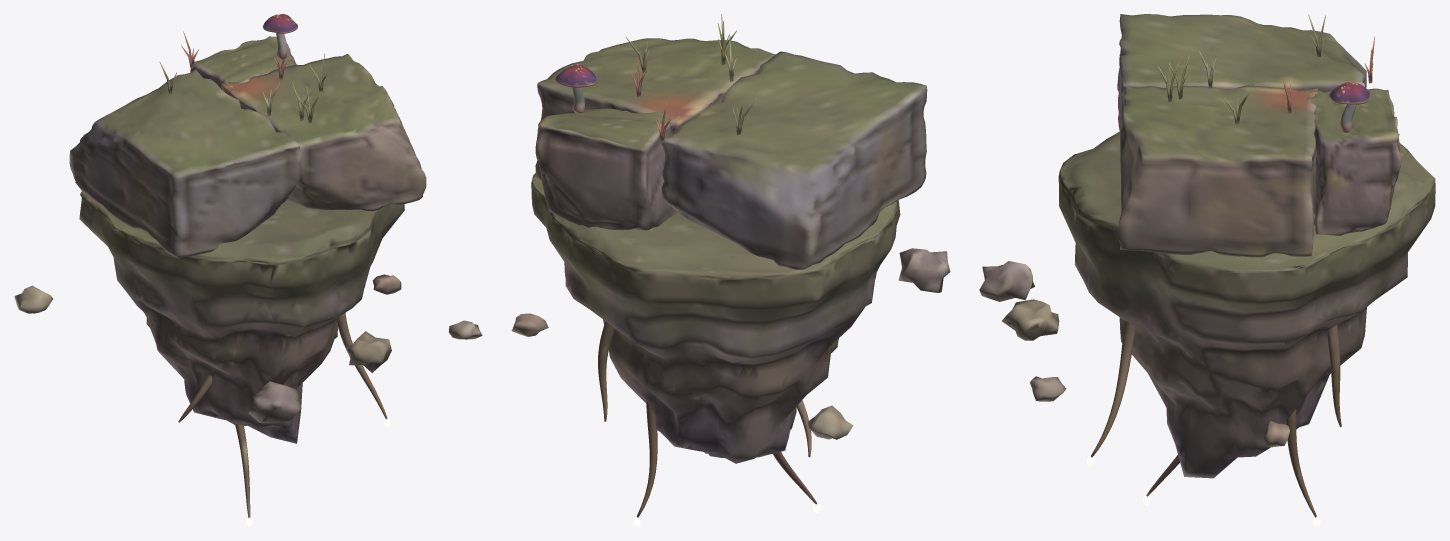
File: ucan_blok_orta.glb
3 renders of one model, left to right at view 1: azimuth 30°, elevation 25°; view 2: azimuth 150°, elevation 25°; view 3: azimuth 270°, elevation 25°, orthographic. The views are drawn at different scales.
Visible parts, largest first — view 1: ucan_blok_orta_LOD0; view 2: ucan_blok_orta_LOD0; view 3: ucan_blok_orta_LOD0.
Boxes of the visible parts, x1=… form: ucan_blok_orta_LOD0: x1=14, y1=14, x2=482, y2=526; ucan_blok_orta_LOD0: x1=511, y1=14, x2=950, y2=526; ucan_blok_orta_LOD0: x1=979, y1=14, x2=1435, y2=526.
Size of what is drawn, in the model's own units: 3.7 by 4.42 by 3.73.
